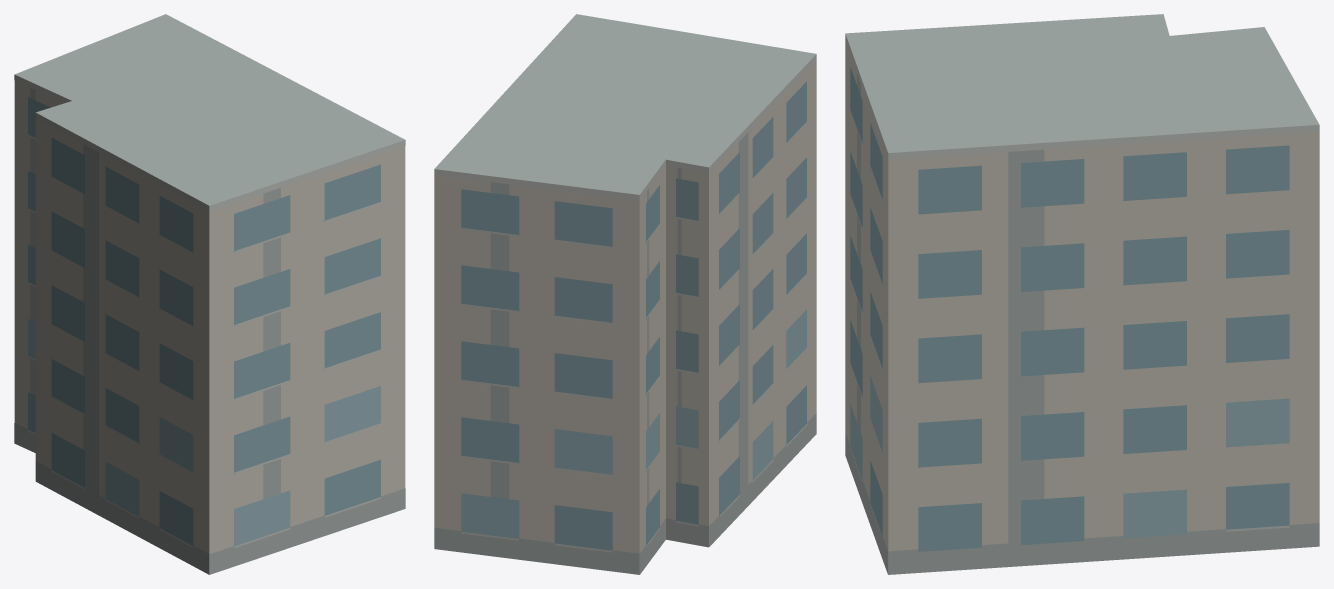
The model's file is survey-upis-32461623.glb.
The picture shows the model from 3 angles, left to right: view 1: azimuth 30°, elevation 25°; view 2: azimuth 150°, elevation 25°; view 3: azimuth 270°, elevation 25°; orthographic projection. The views are drawn at different scales.
Visible parts, largest first — view 1: survey-upis-32461623.tmp; view 2: survey-upis-32461623.tmp; view 3: survey-upis-32461623.tmp.
Part boxes in pixels (x1,y1,x2,y2): survey-upis-32461623.tmp: [14, 14, 405, 574]; survey-upis-32461623.tmp: [434, 14, 816, 574]; survey-upis-32461623.tmp: [845, 14, 1319, 574].
Size of the model in its own units: 10.83 by 15.3 by 15.6.
